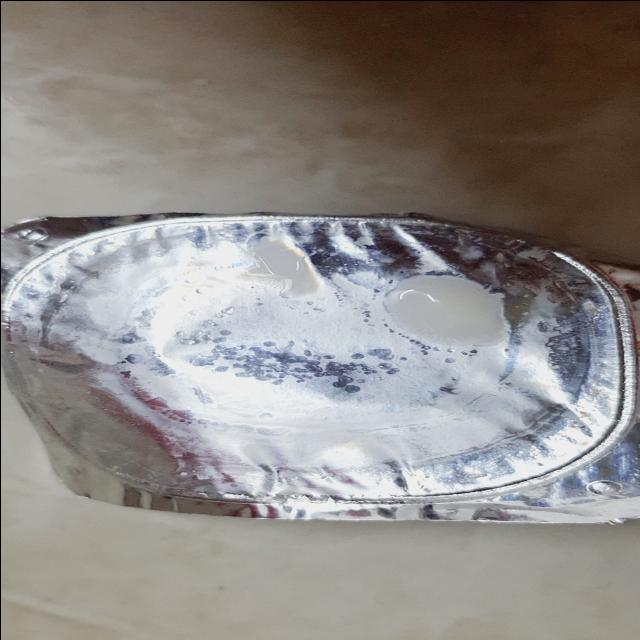Metal: (0, 210, 640, 524)
